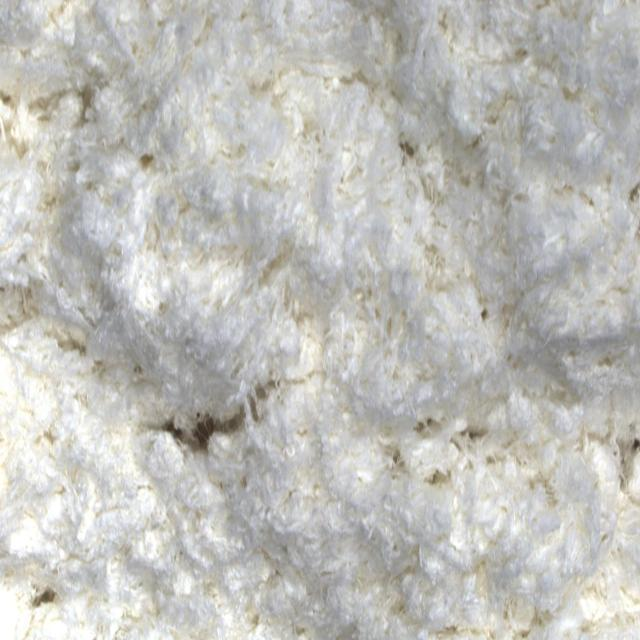dust: (164, 410, 255, 457)
